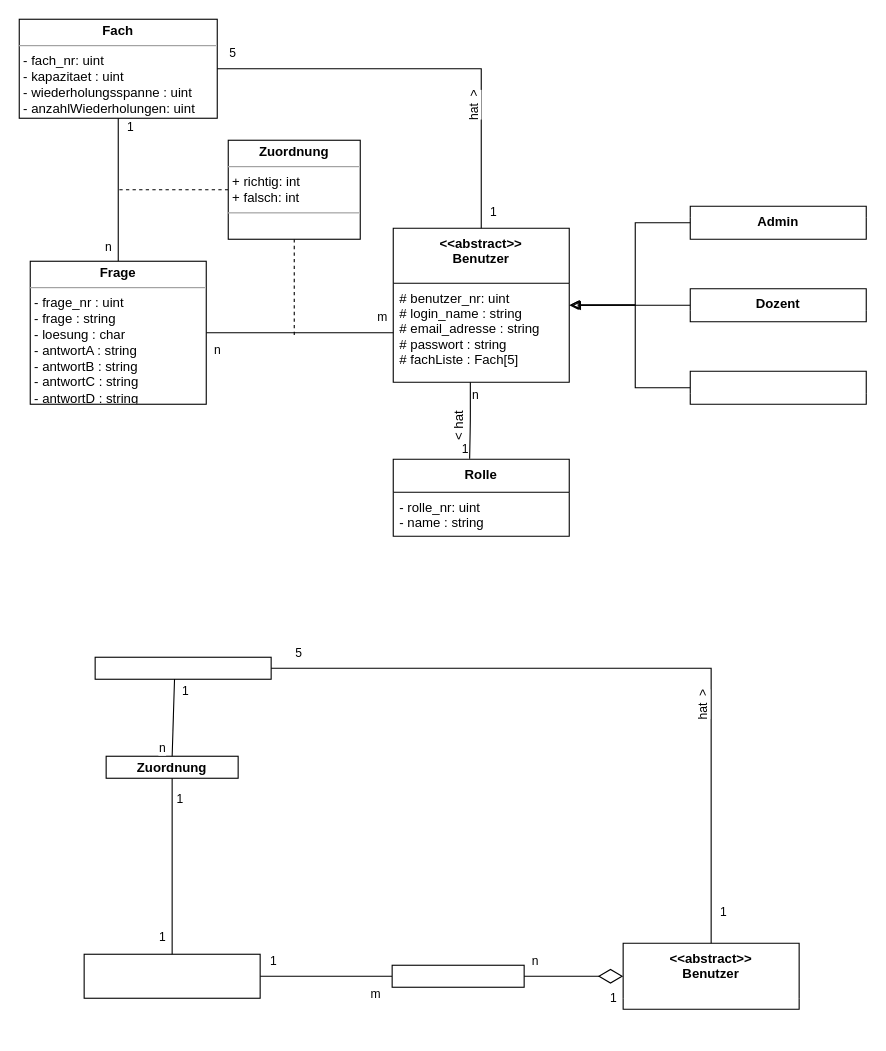
Some shapes in this 886 by 1051 pixel diagram are drawn without their labels. Here are the shapes that lost their labels. From the top down, the centre of each, then its label:
At point (777, 387): "Schüler".
At point (182, 667): "Fach".
At point (171, 975): "Frage".
At point (457, 975): "Zuordnung".
